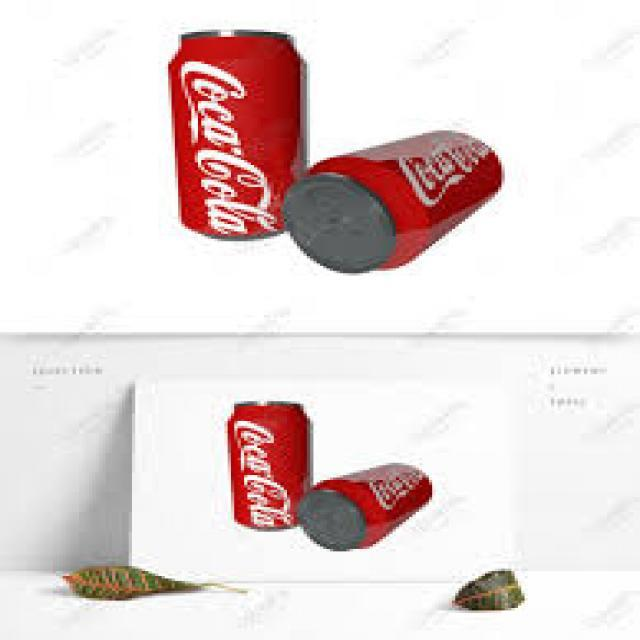coca-cola: (294, 131, 510, 275), (167, 32, 306, 245), (306, 459, 436, 551), (222, 400, 312, 532)
